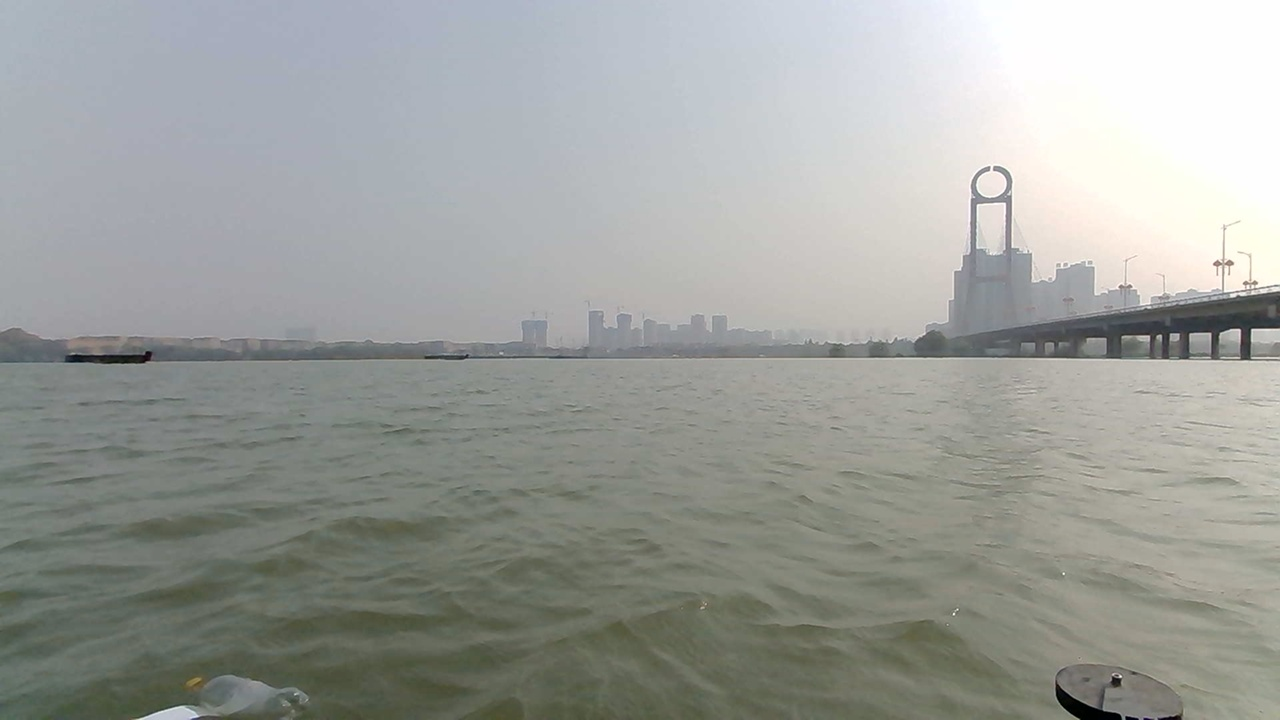bottle: (153, 640, 326, 718)
